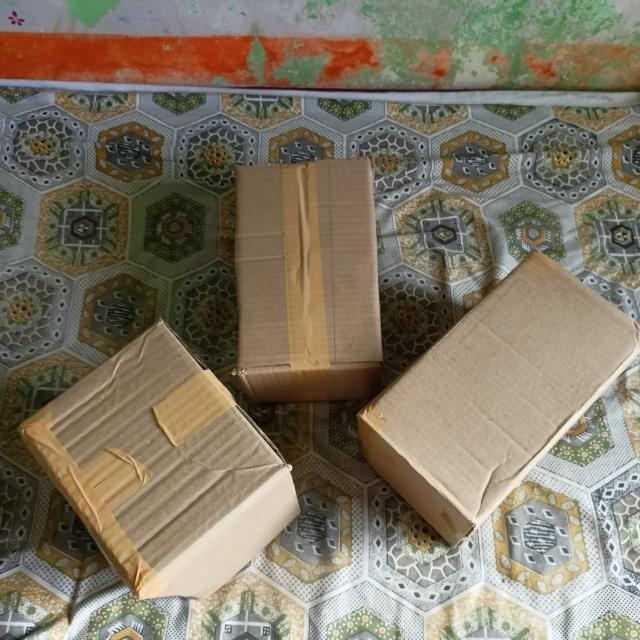box: (365, 249, 639, 524), (18, 319, 290, 590), (239, 156, 383, 372)
